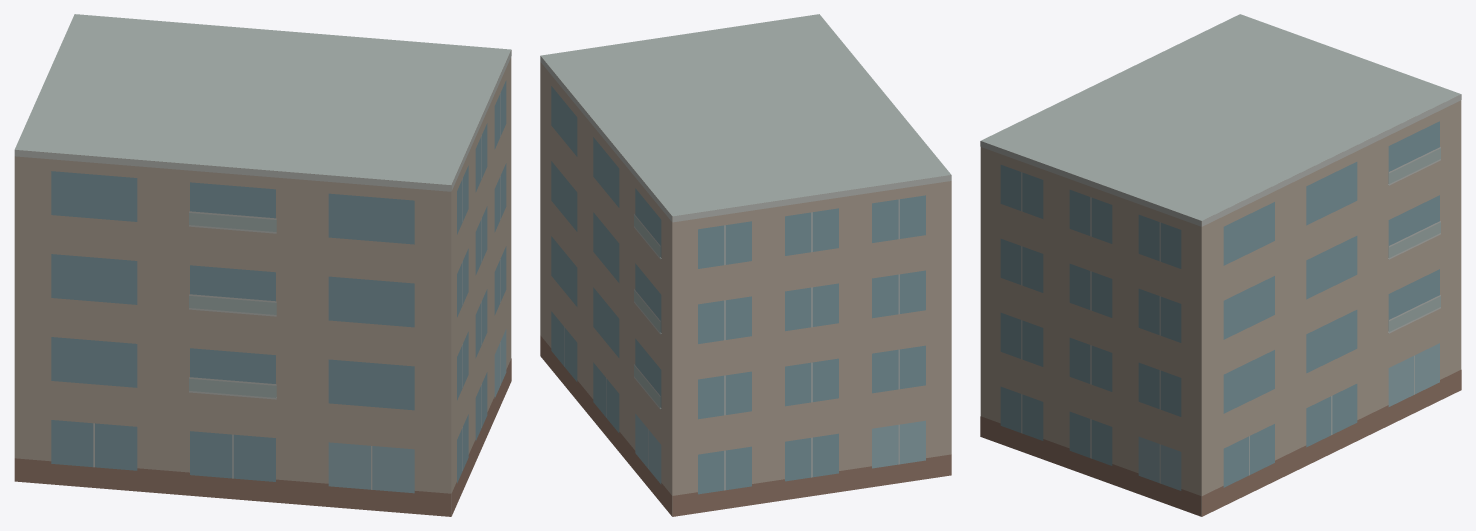
File: survey-upis-32802841.glb
3 views of the same model, side by side, from view 1: azimuth 30°, elevation 25°; view 2: azimuth 150°, elevation 25°; view 3: azimuth 270°, elevation 25° (orthographic). The views are drawn at different scales.
Visible parts, largest first — view 1: survey-upis-32802841.tmp; view 2: survey-upis-32802841.tmp; view 3: survey-upis-32802841.tmp.
Boxes of the visible parts, box(x1,y1,x2,y2) form: survey-upis-32802841.tmp: box(14, 14, 511, 516); survey-upis-32802841.tmp: box(540, 14, 951, 516); survey-upis-32802841.tmp: box(980, 14, 1461, 516).
Size of the model in its own units: 18.31 by 12.2 by 17.98.
